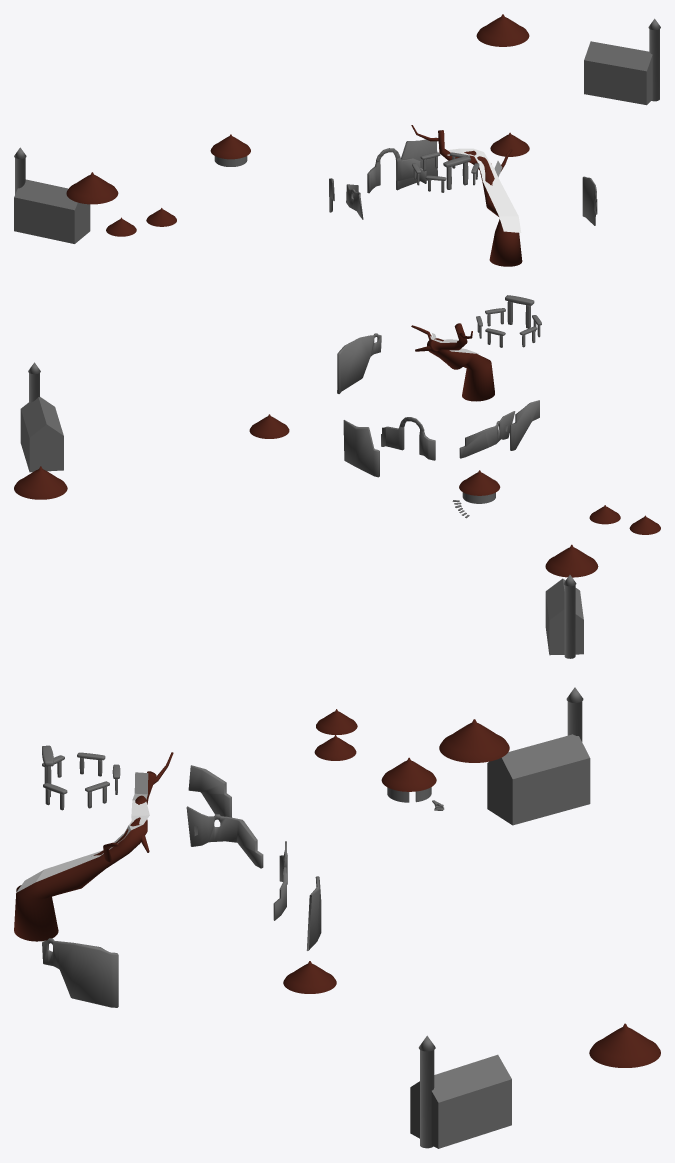
The model's file is cycle_1.glb.
3 renders of one model, top to bottom at view 1: azimuth 30°, elevation 25°; view 2: azimuth 150°, elevation 25°; view 3: azimuth 270°, elevation 25°, orthographic. The views are drawn at different scales.
Parts seen in each view (by area): view 1: Church, Church.001, TreeUpper, GardenWall.002, TreeUpperCol, HutRoof.005, RitualSite, HutRoof.003, Arch, HutRoof, HutRoof.004, HutRoof.002 (+2 smaller); view 2: Church, GardenWall.002, Church.001, TreeUpper, RitualSite, HutRoof.005, HutRoof.003, GardenWall, Arch, GardenWall.001, HutRoof, HutRoof.004; view 3: Church.001, Church, TreeUpper, GardenWall.002, GardenWall, HutRoof.005, HutRoof.003, RitualSite, TreeUpperCol, GardenWall.001, HutRoof, HutRoof.004 (+2 smaller).
Boxes of the visible parts, bbox=[...] form: Church: bbox=[584, 18, 660, 105]; Church.001: bbox=[14, 147, 90, 243]; TreeUpper: bbox=[411, 125, 522, 266]; GardenWall.002: bbox=[396, 137, 597, 225]; TreeUpperCol: bbox=[447, 148, 521, 232]; HutRoof.005: bbox=[476, 14, 529, 46]; RitualSite: bbox=[412, 152, 479, 192]; HutRoof.003: bbox=[66, 172, 118, 204]; Arch: bbox=[367, 148, 426, 193]; HutRoof: bbox=[210, 134, 250, 159]; HutRoof.004: bbox=[490, 132, 529, 156]; HutRoof.002: bbox=[106, 217, 136, 236]; Church: bbox=[20, 362, 63, 472]; GardenWall.002: bbox=[337, 333, 381, 477]; Church.001: bbox=[545, 575, 583, 658]; TreeUpper: bbox=[411, 323, 494, 401]; RitualSite: bbox=[476, 295, 541, 347]; HutRoof.005: bbox=[14, 466, 67, 499]; HutRoof.003: bbox=[545, 544, 598, 577]; GardenWall: bbox=[459, 411, 515, 458]; Arch: bbox=[381, 417, 435, 460]; GardenWall.001: bbox=[510, 400, 539, 450]; HutRoof: bbox=[459, 470, 500, 495]; HutRoof.004: bbox=[249, 414, 289, 438]; Church.001: bbox=[487, 687, 590, 825]; Church: bbox=[410, 1035, 511, 1148]; TreeUpper: bbox=[14, 752, 173, 941]; GardenWall.002: bbox=[42, 876, 321, 1007]; GardenWall: bbox=[186, 806, 263, 868]; HutRoof.005: bbox=[589, 1023, 660, 1067]; HutRoof.003: bbox=[439, 719, 509, 762]; RitualSite: bbox=[42, 745, 120, 810]; TreeUpperCol: bbox=[16, 772, 149, 892]; GardenWall.001: bbox=[188, 765, 231, 822]; HutRoof: bbox=[381, 757, 436, 791]; HutRoof.004: bbox=[283, 961, 336, 993].
Size of the model in its own units: 203 by 49.16 by 140.
